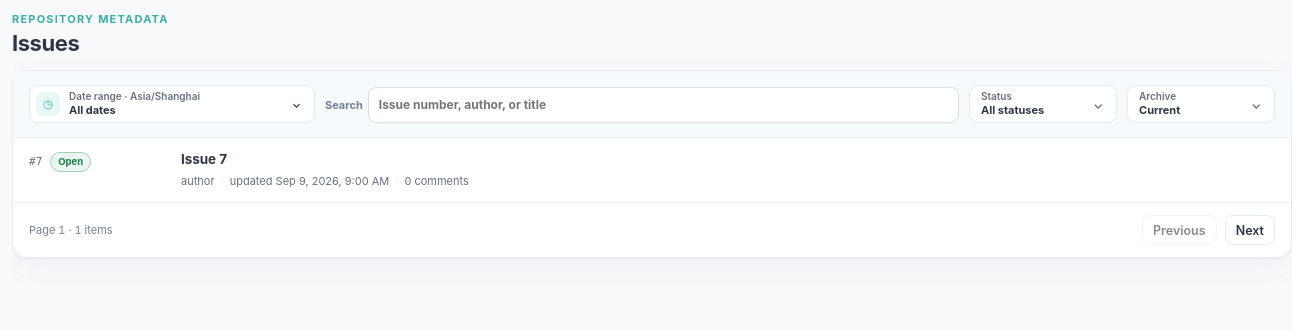
MetadataPage pull request views › keeps Issues on cursor pagination without sending the PR page parameter
Expected: the heading "Issue 7" is shown, [181,150,227,169]
Click the button "Next" at (1250, 230), box [1225,215,1275,245]
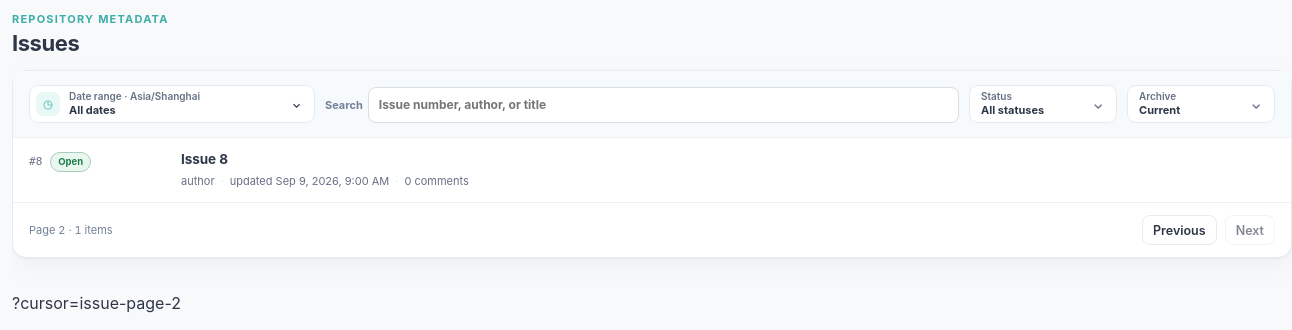
Expected: the heading "Issue 8" is shown, [181,150,228,169]
Expected: the text with test id "location-search" shows "cursor=issue-page-2", [12,293,181,313]
